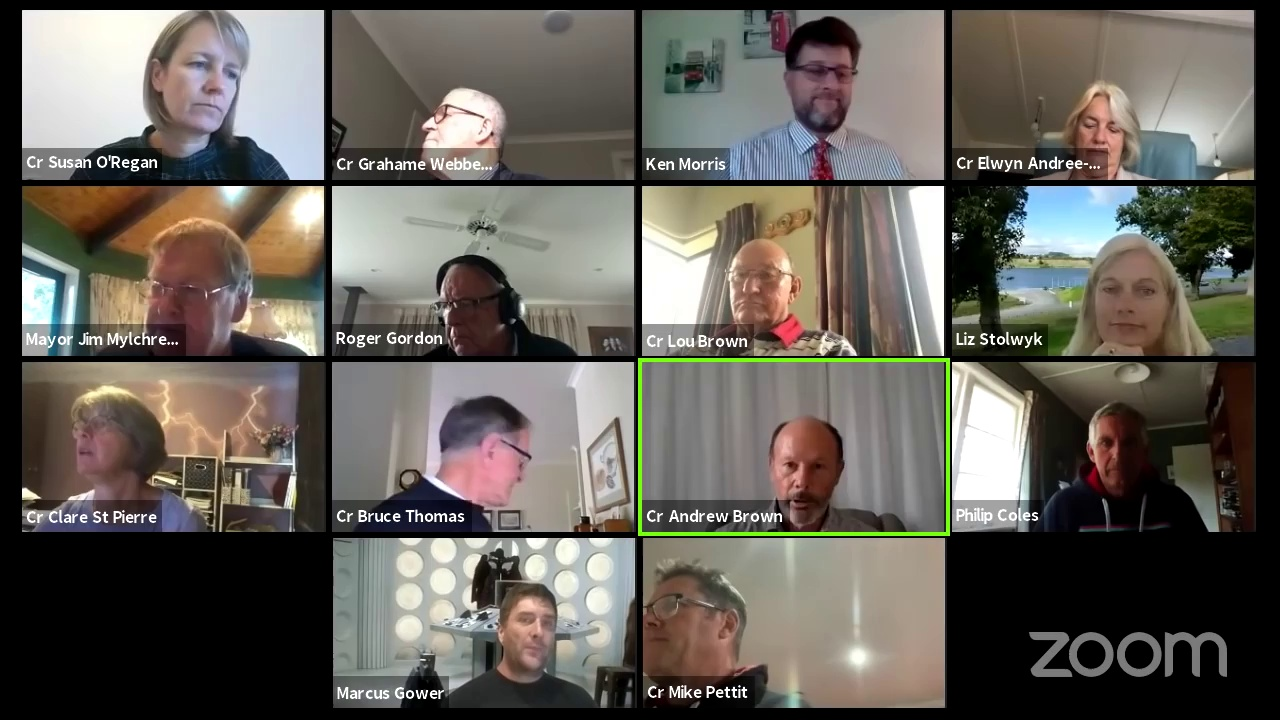Distracted: (443, 397, 535, 510), (58, 387, 157, 482), (153, 28, 248, 124), (649, 570, 735, 671), (431, 275, 516, 348), (420, 87, 494, 161), (1052, 97, 1127, 170)
Not Distracted: (783, 28, 869, 142), (152, 214, 227, 343), (1086, 250, 1180, 343), (725, 243, 802, 326), (1077, 408, 1153, 492), (772, 428, 842, 517), (503, 592, 563, 679)
